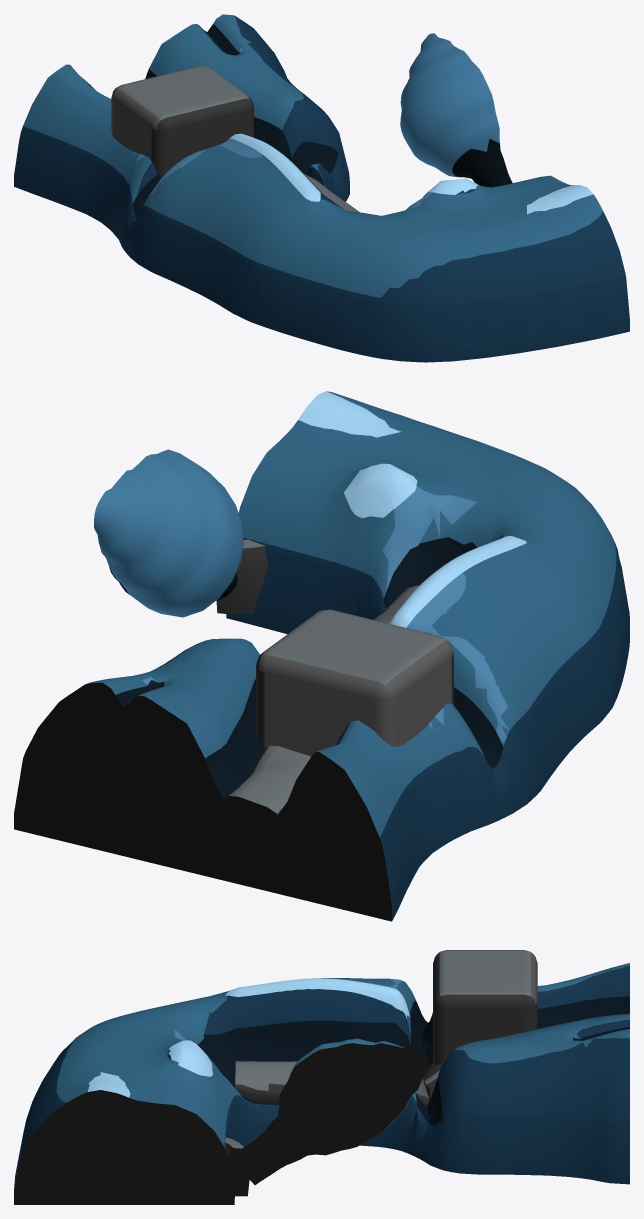
File: blue_gate_bl.glb
The picture shows the model from 3 angles, top to bottom: view 1: azimuth 30°, elevation 25°; view 2: azimuth 150°, elevation 25°; view 3: azimuth 270°, elevation 25°; orthographic projection. The views are drawn at different scales.
Visible parts, largest first — view 1: blue_gate_bl; view 2: blue_gate_bl; view 3: blue_gate_bl.
Boxes of the visible parts, <box> form: blue_gate_bl: <box>14,14,629,362</box>; blue_gate_bl: <box>14,391,629,921</box>; blue_gate_bl: <box>14,950,629,1204</box>.
Bounding box in the file's own units: 15.55 × 7.57 × 25.97.
